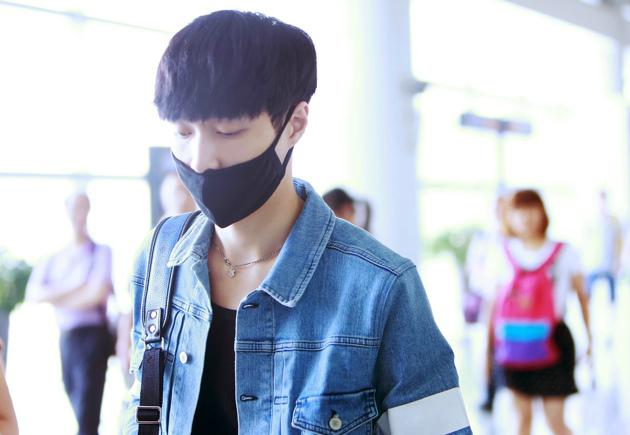WRONG: (172, 103, 280, 223)
